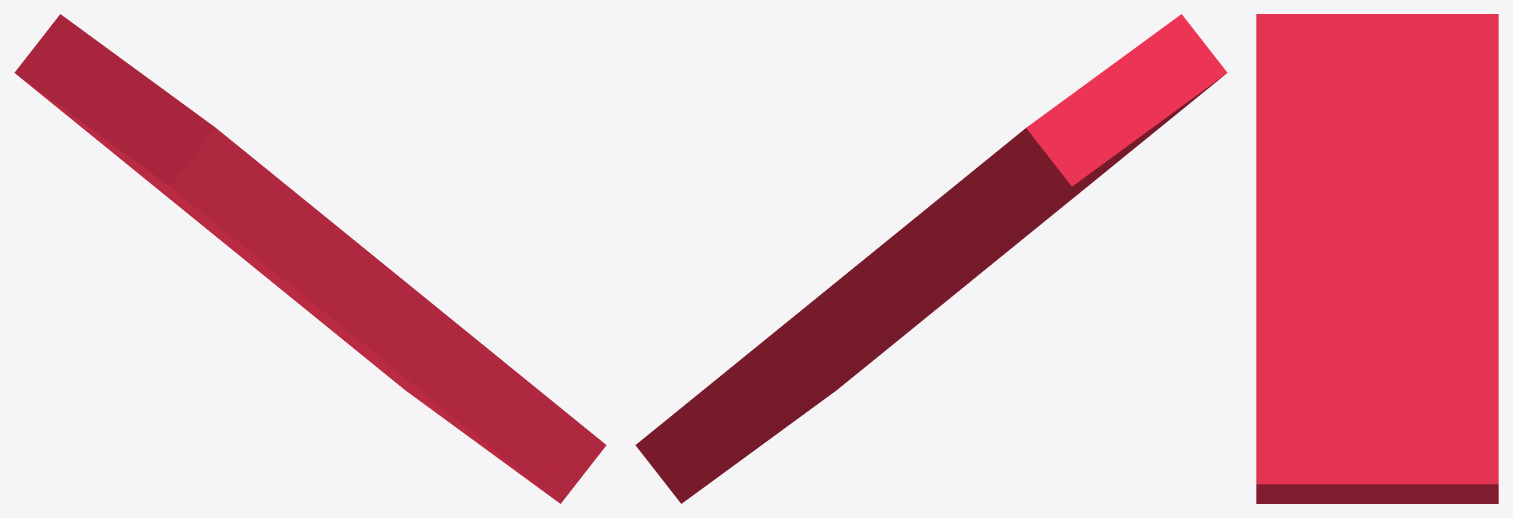
The model's file is tangram8.gltf.
3 renders of one model, left to right at view 1: azimuth 30°, elevation 25°; view 2: azimuth 150°, elevation 25°; view 3: azimuth 270°, elevation 25°, orthographic. The views are drawn at different scales.
Size of the model in its own units: 0.0324 by 0.0326 by 0.02.
